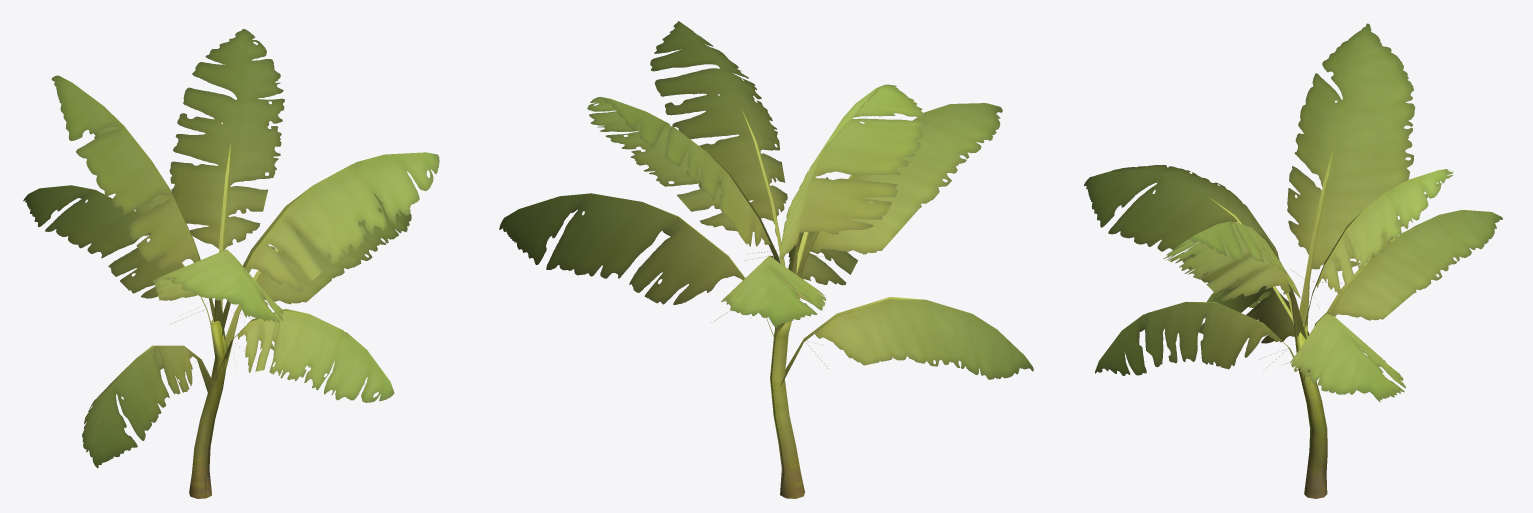
File: banana plant 01_lod3.obj
3 views of the same model, side by side, from view 1: azimuth 30°, elevation 25°; view 2: azimuth 150°, elevation 25°; view 3: azimuth 270°, elevation 25° (orthographic). The views are drawn at different scales.
Visible parts, largest first — view 1: tree; view 2: tree; view 3: tree.
Boxes of the visible parts, left/top/right/bottom form: tree: left=23, top=29, right=439, bottom=498; tree: left=499, top=21, right=1033, bottom=498; tree: left=1084, top=23, right=1502, bottom=498.
Bounding box in the file's own units: 274 × 272 × 262.
